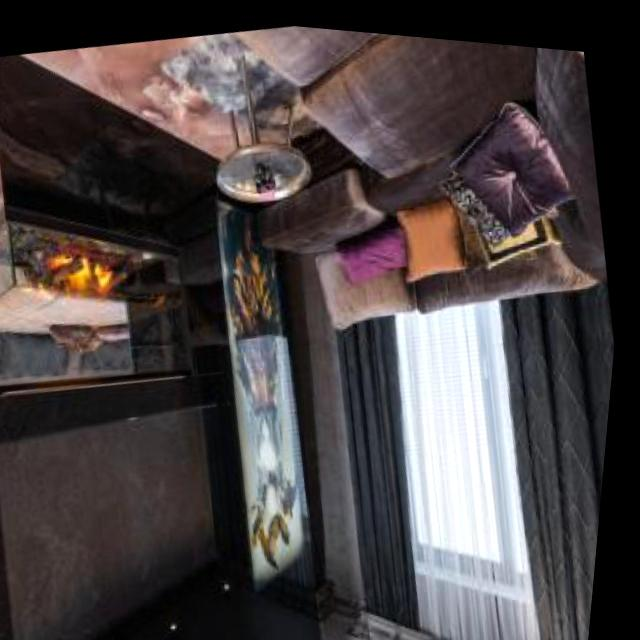fire: (40, 222, 138, 318)
